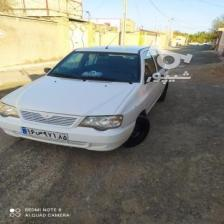plate: (22, 126, 70, 142)
